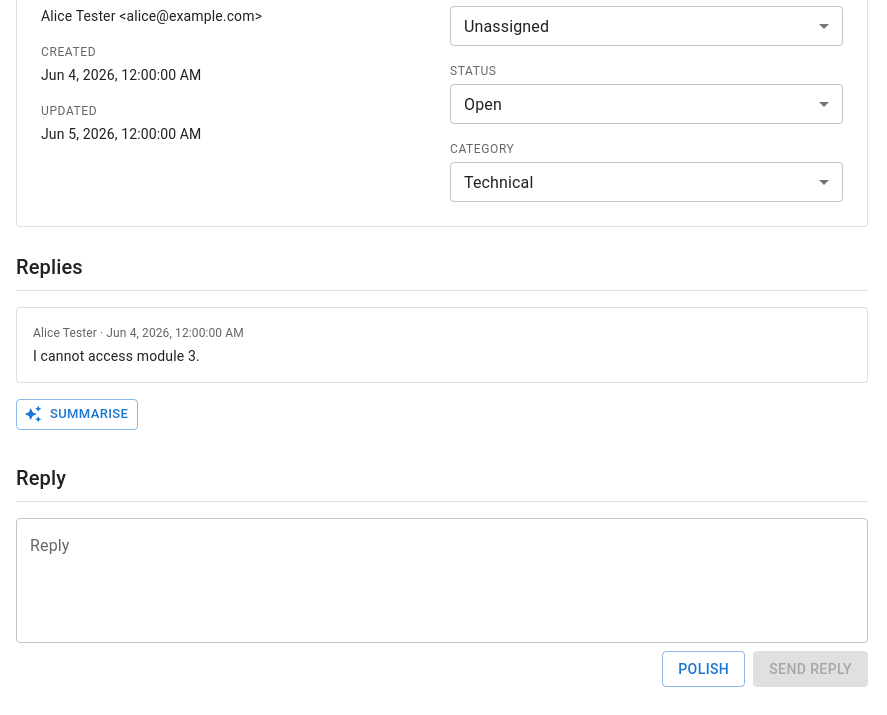
TicketDetailPage › reply form › shows a server error alert when createReply fails
The width and height of the screenshot is (887, 715).
(page scrolled)
Type "Some reply." into the text box labelled "Reply".
click(442, 580); type("Some reply.")  # box [30, 534, 854, 626]
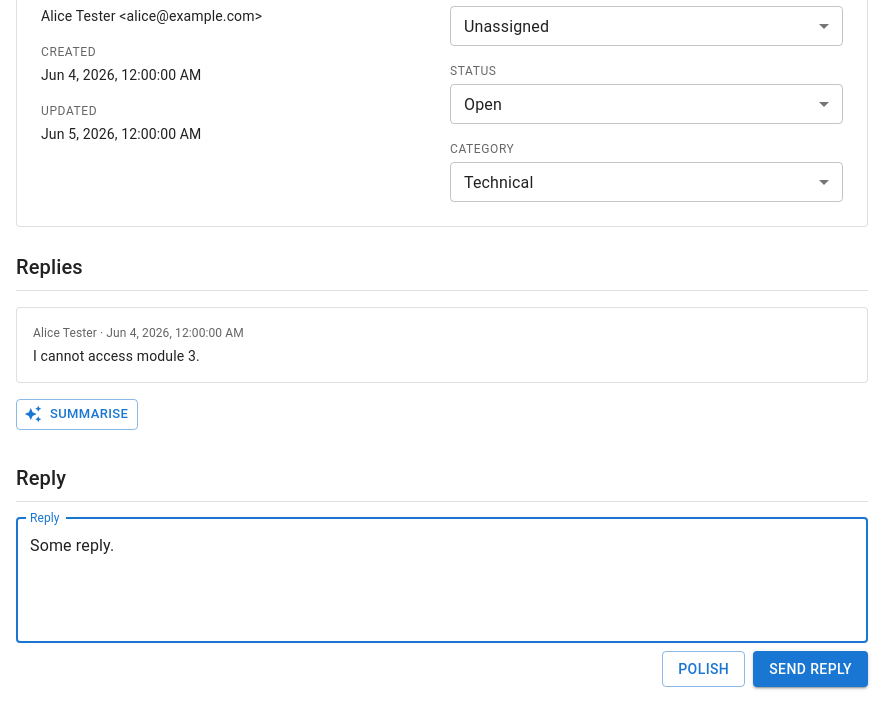
Click the button "Send Reply".
click(811, 669)  # box [753, 651, 868, 687]
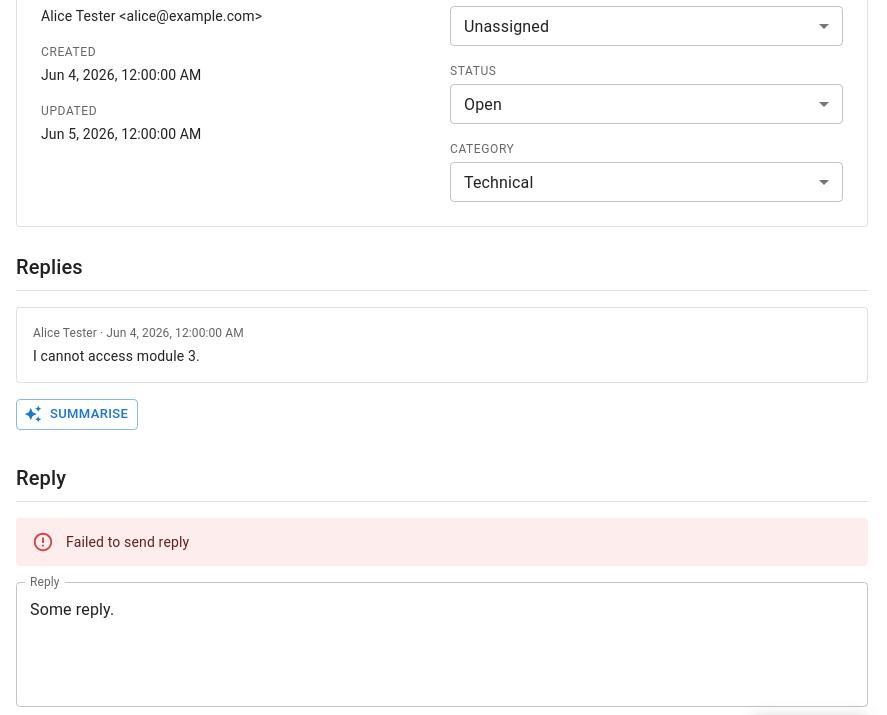
expect the text "Failed to send reply" is shown: met, box [66, 534, 189, 550]
